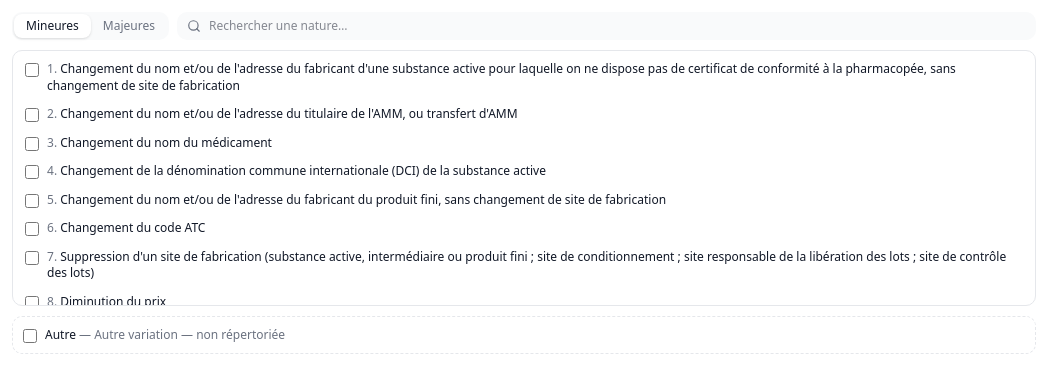
Scenario: VariationNaturesPicker › bascule sur Majeures et affiche les natures majeures
Click the button "Majeures".
click(129, 26)  # box [91,14,167,38]
(page scrolled)
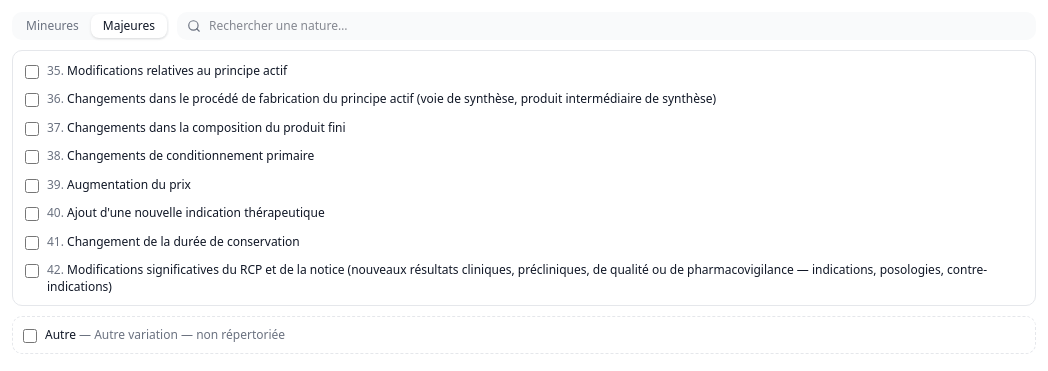
Expected: the text "39. Augmentation du prix" is shown, [47,176,191,193]
